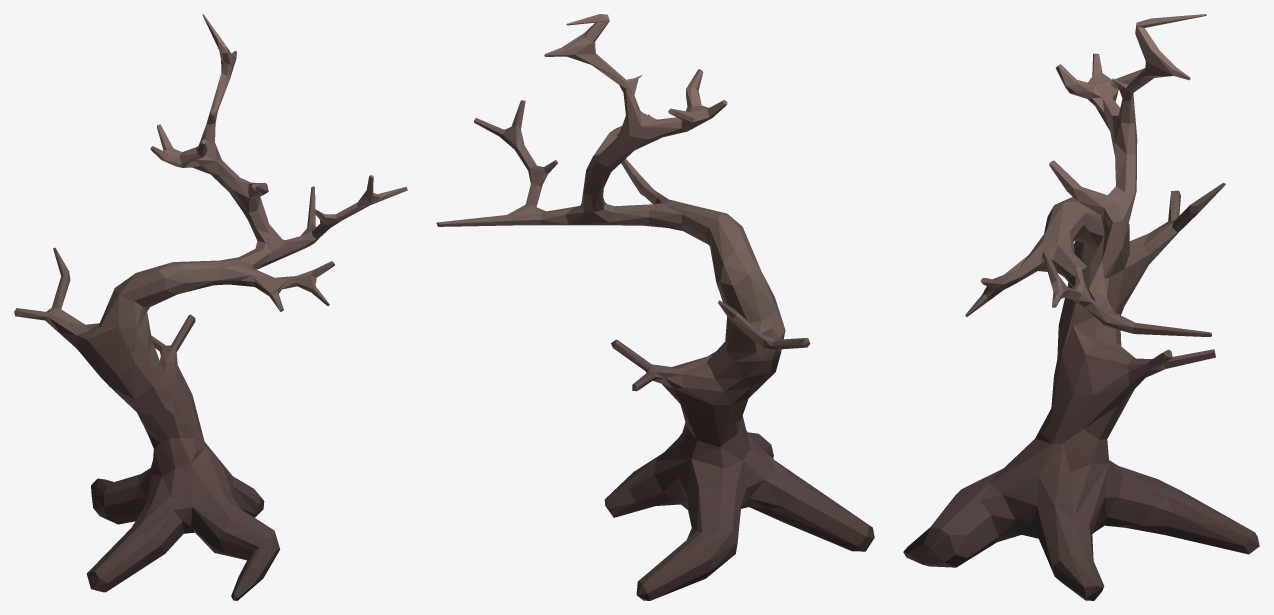
File: tree-1.glb
3 views of the same model, side by side, from view 1: azimuth 30°, elevation 25°; view 2: azimuth 150°, elevation 25°; view 3: azimuth 270°, elevation 25° (orthographic). The views are drawn at different scales.
Visible parts, largest first — view 1: tree1; view 2: tree1; view 3: tree1.
Boxes of the visible parts, box(x1,y1,x2,y2) form: tree1: box(14, 14, 407, 600); tree1: box(436, 14, 874, 600); tree1: box(903, 14, 1259, 600).
Size of the model in its own units: 3.27 by 4.35 by 2.36.
1 material, 1 textured.
